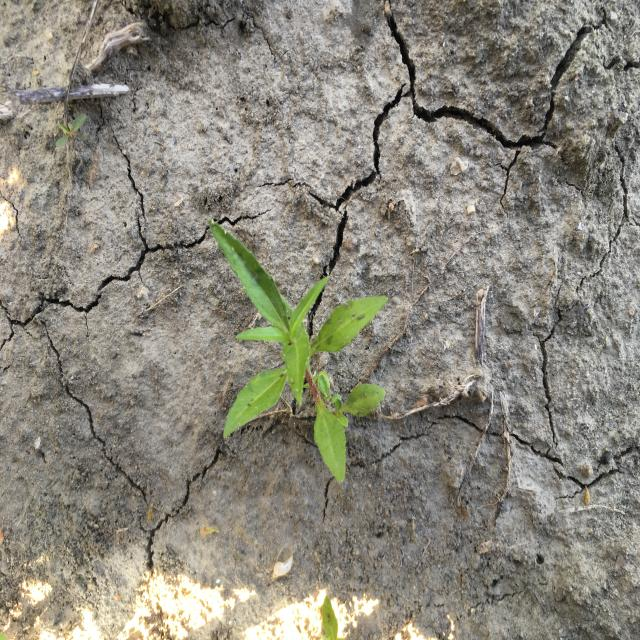Eclipta: (207, 216, 390, 485)
